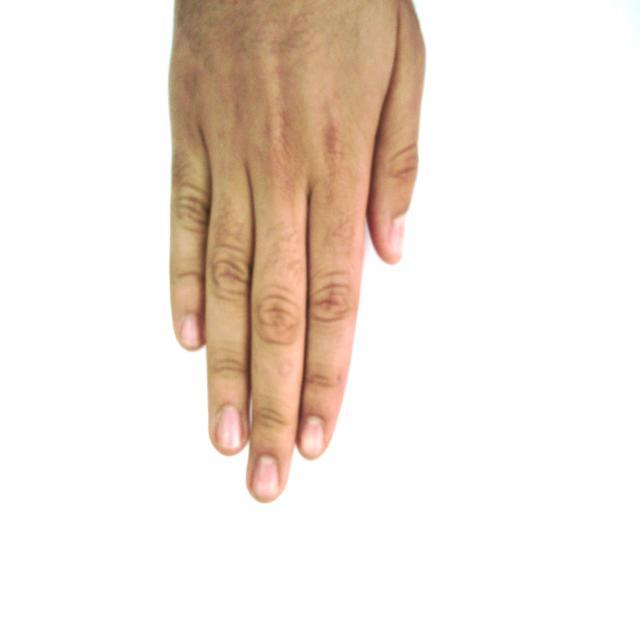Fingernail: (218, 407, 242, 450), (255, 457, 279, 498), (302, 418, 324, 457), (181, 316, 200, 346), (390, 218, 404, 258)
